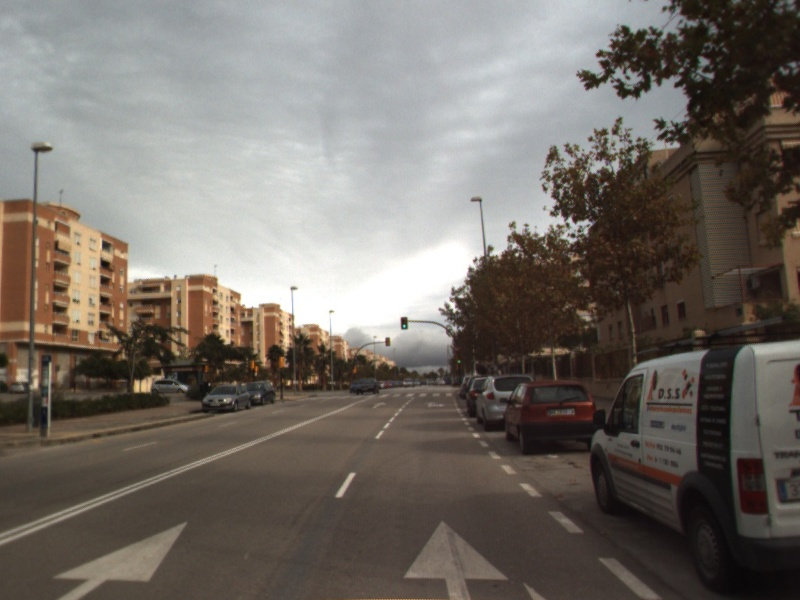STRAIGHT: (47, 517, 191, 600), (398, 517, 512, 600), (371, 400, 388, 410)
STRAIGHT_RIGHT: (422, 399, 447, 409)
